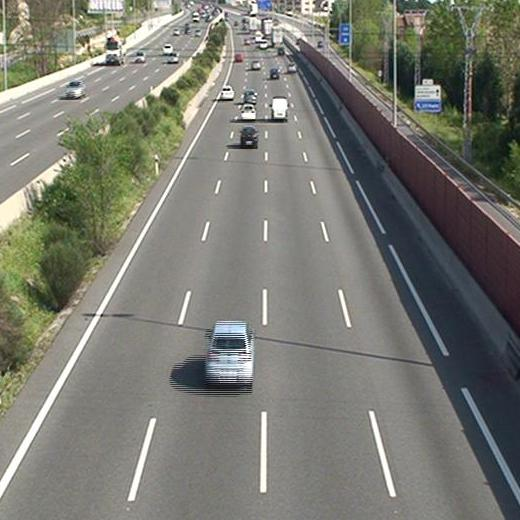car: (205, 322, 253, 385), (241, 127, 258, 147), (240, 105, 257, 120), (243, 89, 257, 103), (220, 85, 233, 100), (269, 67, 279, 80), (286, 62, 296, 72), (250, 60, 261, 69), (233, 53, 242, 63)
van: (271, 98, 286, 120)
